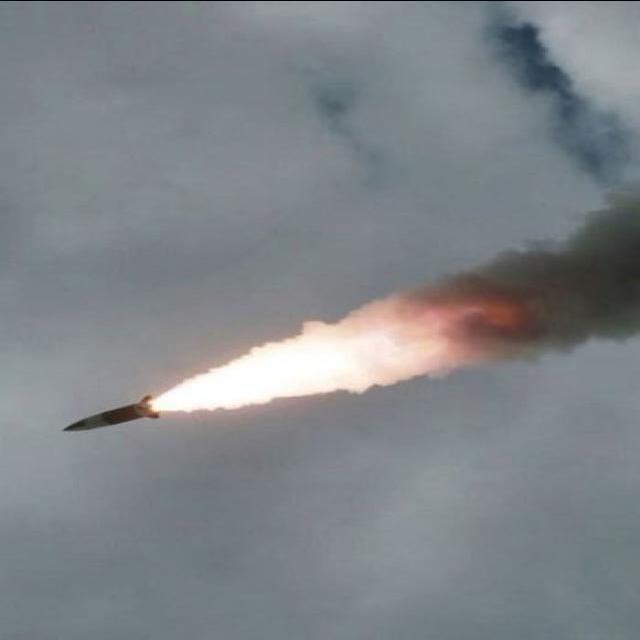missile: (61, 401, 161, 437)
